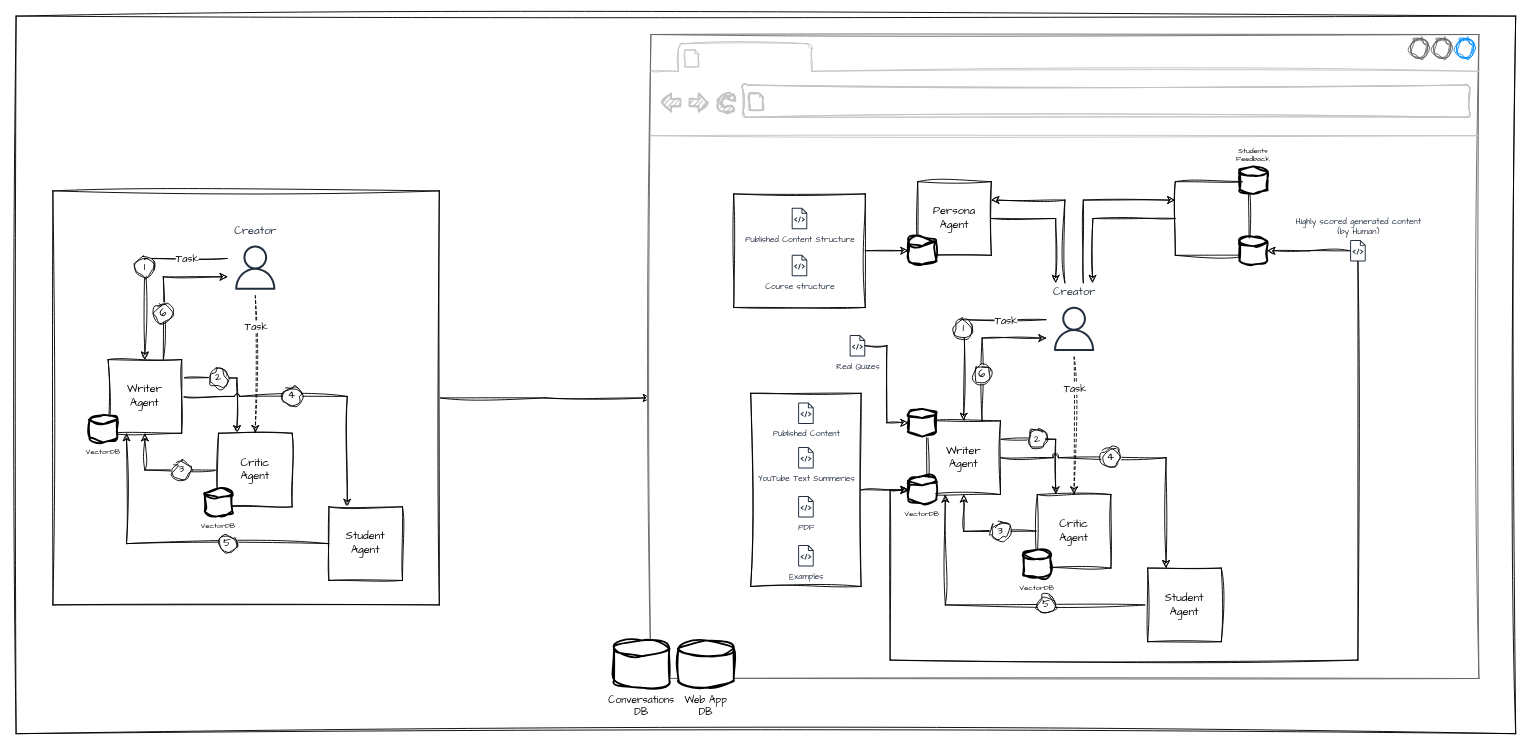
Image size: 1532x750. Some labels were removed from this diagram. Here are the shapes that lost their labels. From the top down, the centre of each, then its label:
pixel 756 57: EduHaven
pixel 885 101: https://edu-haven.grains.education/
pixel 1211 218: Refiner Agent
pixel 922 250: ContextGraph
pixel 1253 250: ScoreDB (Fine-Grained VectorDB)
pixel 922 422: QuizDB
